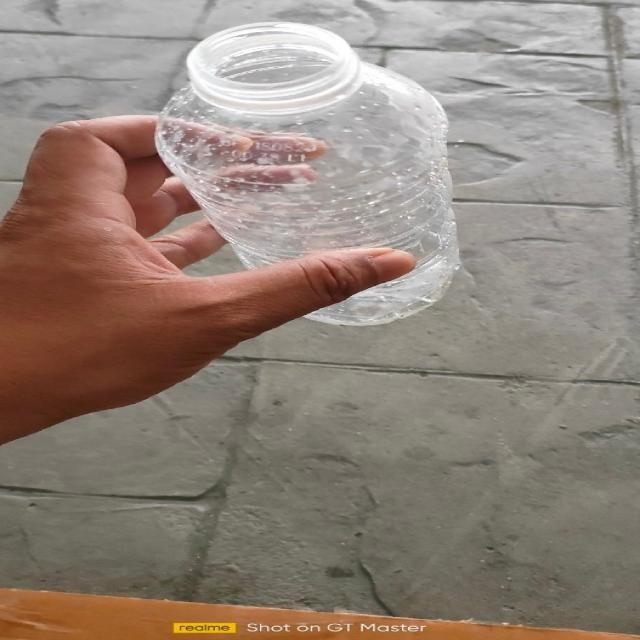bottle: (154, 22, 460, 325)
